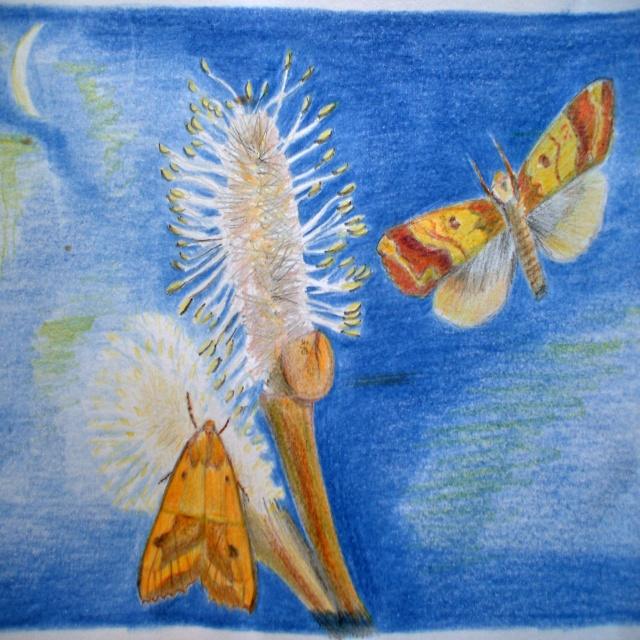Butterfly: (386, 76, 611, 336)
